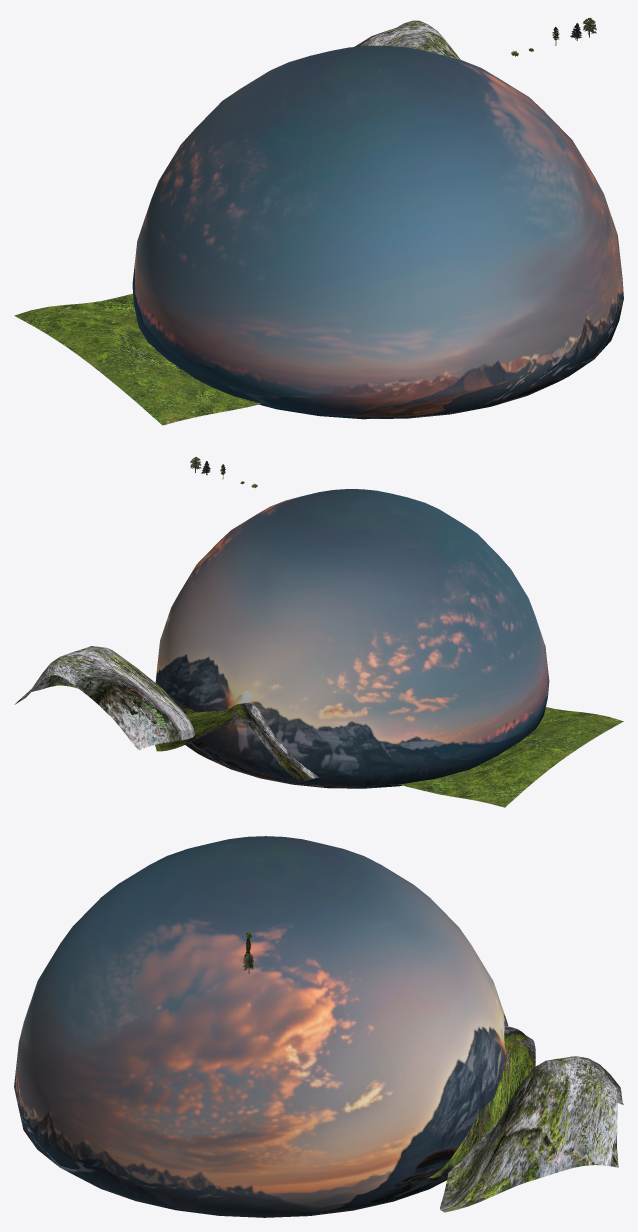
Rendered from пейзаж ск.fbx.
3 renders of one model, top to bottom at view 1: azimuth 30°, elevation 25°; view 2: azimuth 150°, elevation 25°; view 3: azimuth 270°, elevation 25°, orthographic. The views are drawn at different scales.
Visible parts, largest first — view 1: Sphere, Plane.008, Plane.009; view 2: Sphere, Plane.009, Plane.008, Plane.007; view 3: Sphere, Plane.009, Plane.007.
Boxes of the visible parts, x1,y1,x2,y2 form: Sphere: [132, 45, 623, 419]; Plane.008: [14, 293, 261, 425]; Plane.009: [354, 20, 460, 59]; Sphere: [155, 489, 549, 788]; Plane.009: [14, 646, 194, 750]; Plane.008: [398, 707, 623, 807]; Plane.007: [155, 703, 319, 782]; Sphere: [14, 836, 508, 1217]; Plane.009: [440, 1056, 623, 1212]; Plane.007: [428, 1026, 535, 1178].
Size of the model in its own units: 9592 by 4954 by 9141.
10 materials, 10 textured.
